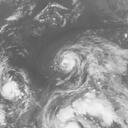cyclone: (50, 30, 112, 106)
